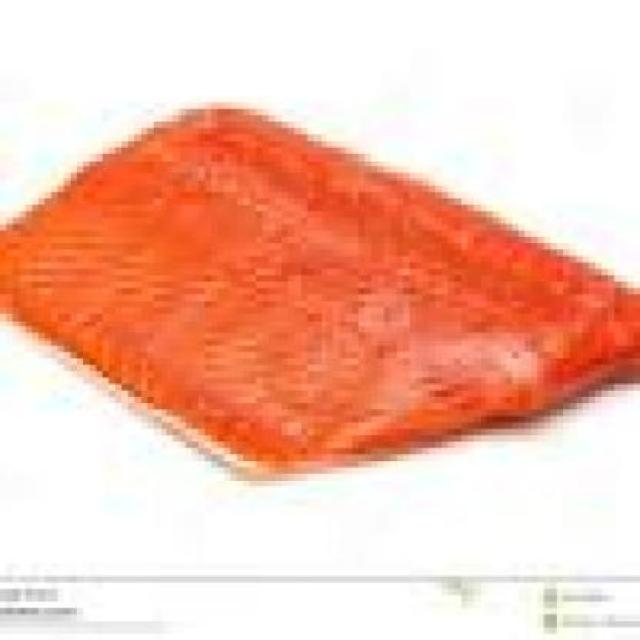salmon: (6, 89, 640, 518)
